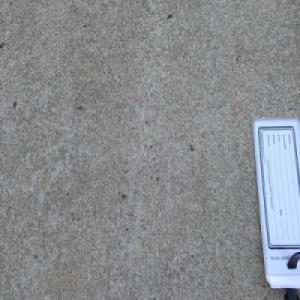LuggageTag: (250, 114, 299, 300)
